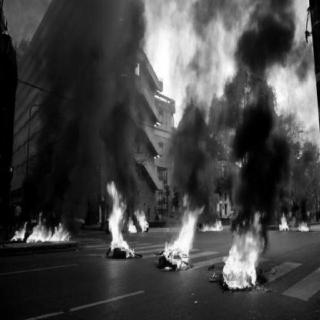Smoke: (167, 101, 213, 191)
